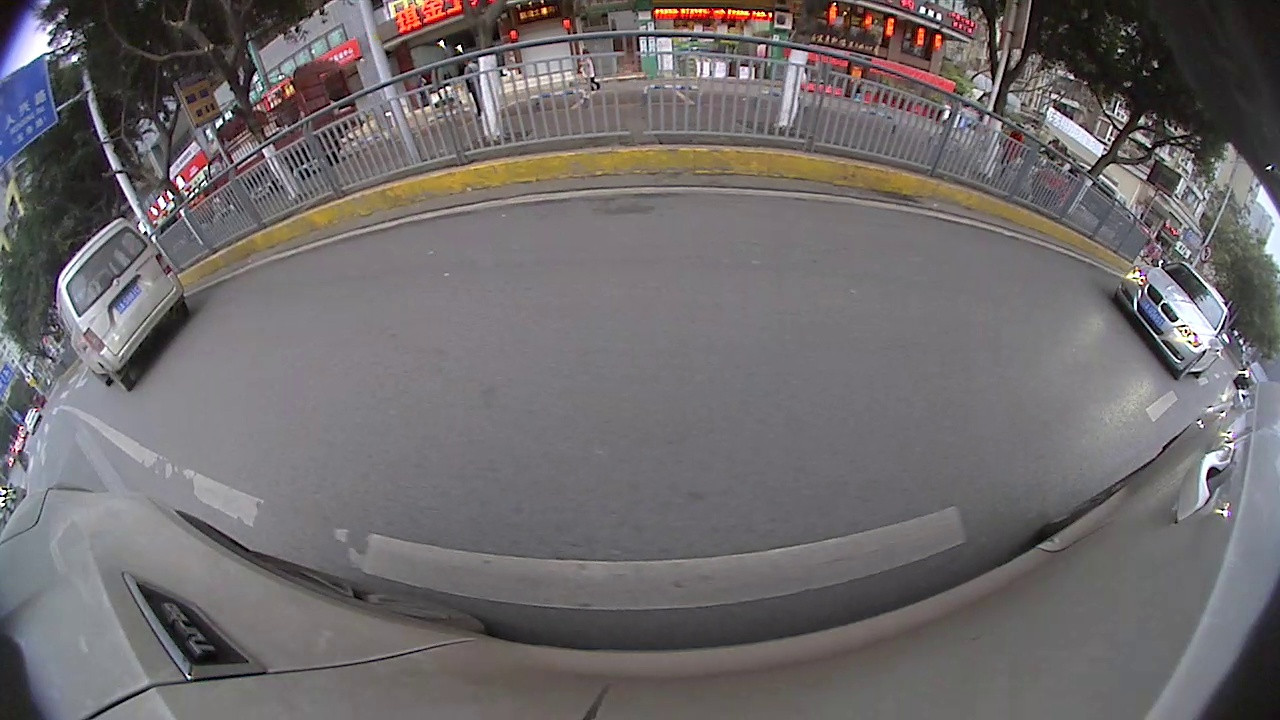car: (52, 211, 197, 394), (1109, 253, 1234, 385)
